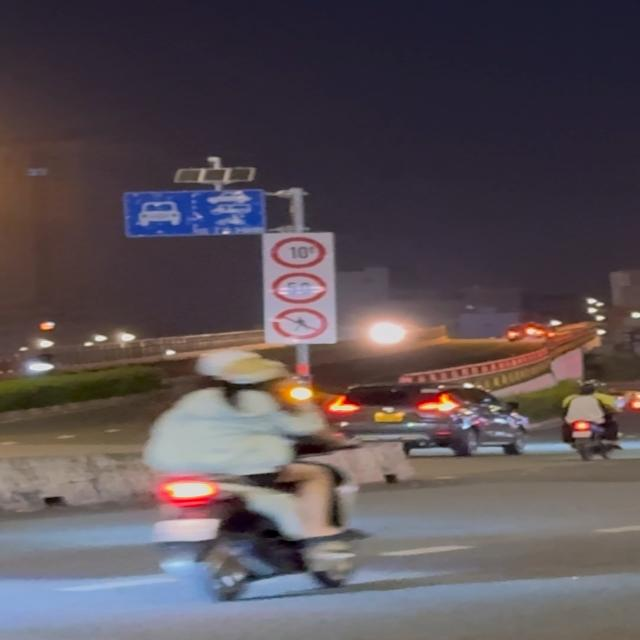Bien bao cam nguoi di bo: (268, 306, 328, 340)
Bien bao toc do toi da cho phep: (270, 273, 331, 305)
